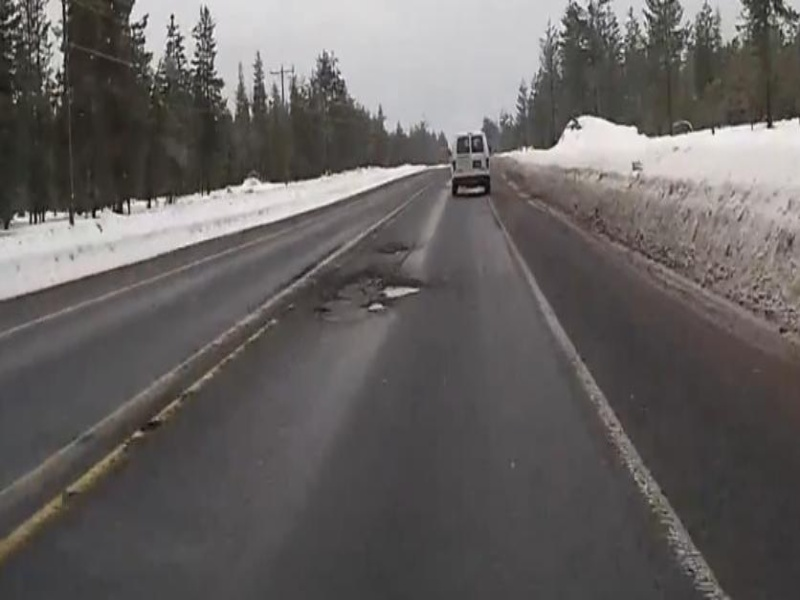pothole: (376, 282, 423, 298), (365, 302, 386, 310)
